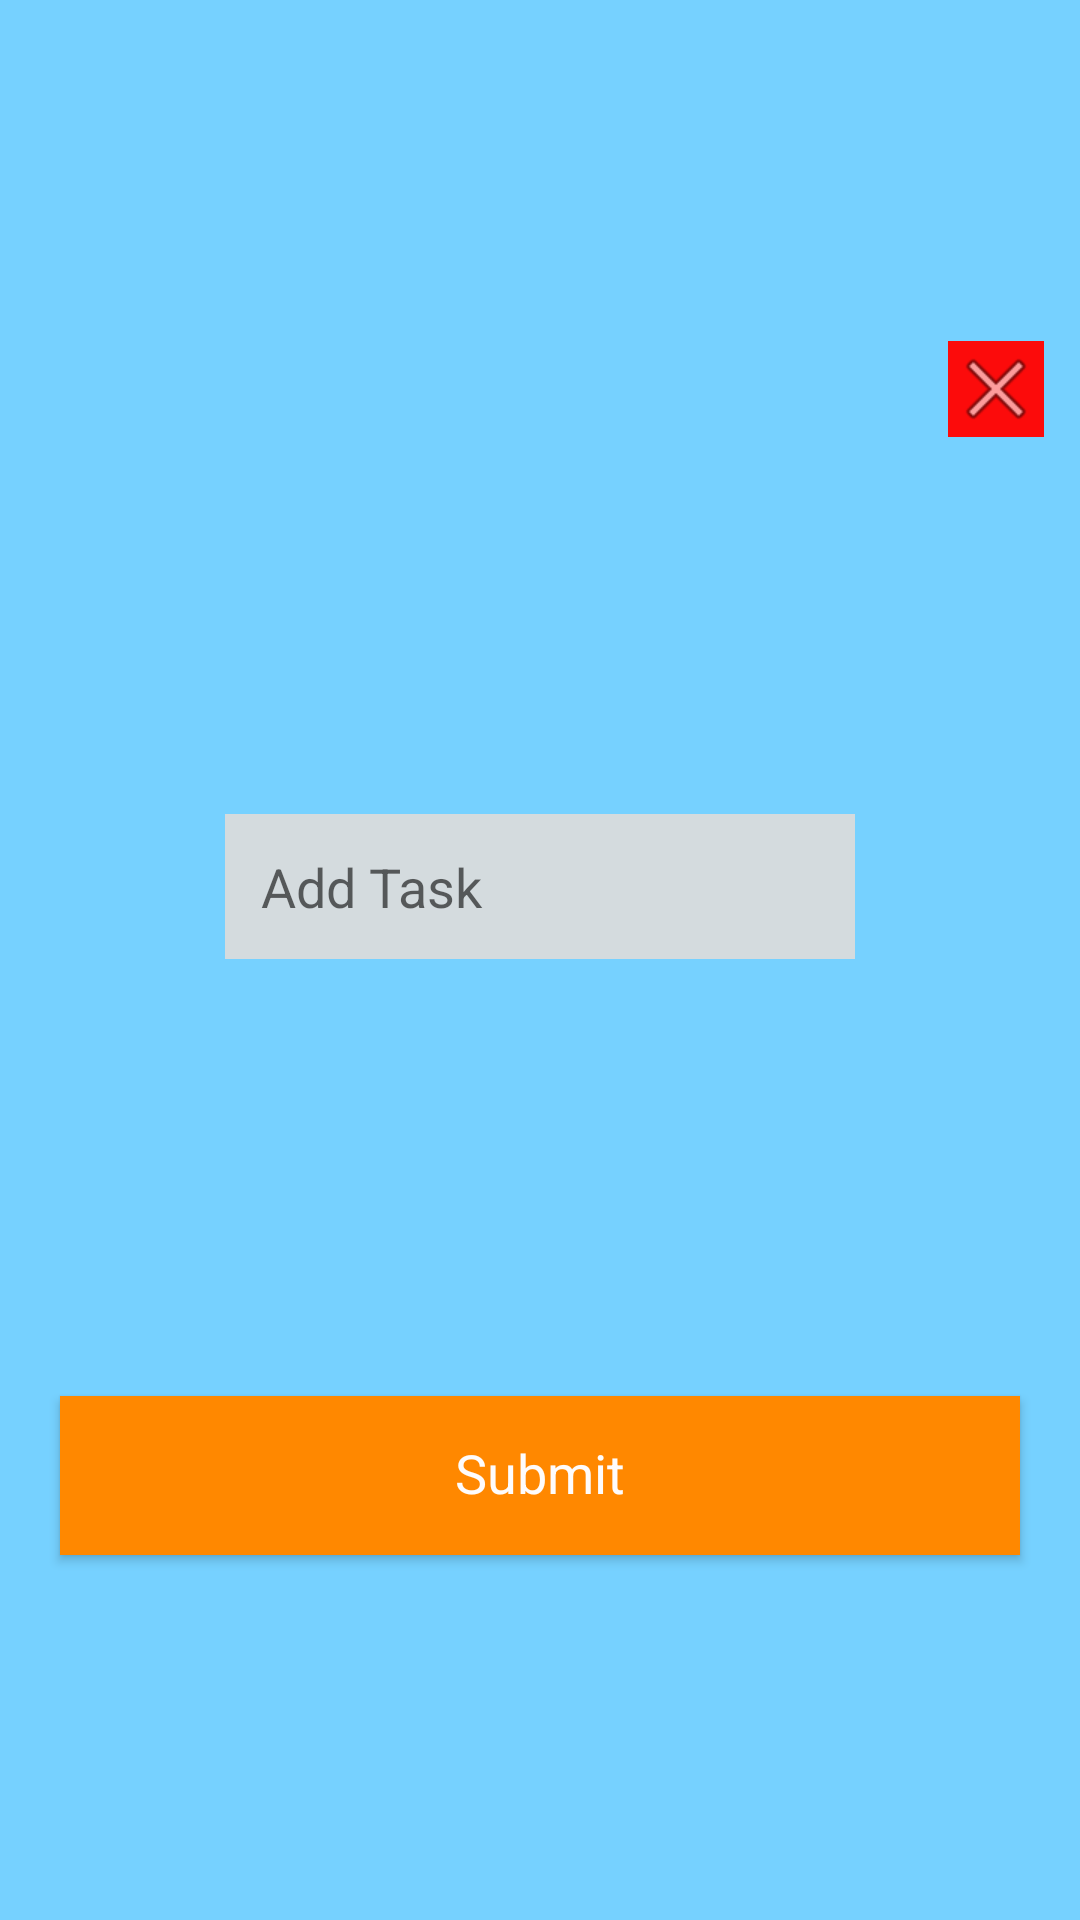

Named icons in this screenshot (1080 x 1920) and their bounding boxes, bbox=(x1, y1, x2, y2):
close clear cancel: bbox=(948, 341, 1044, 437)
